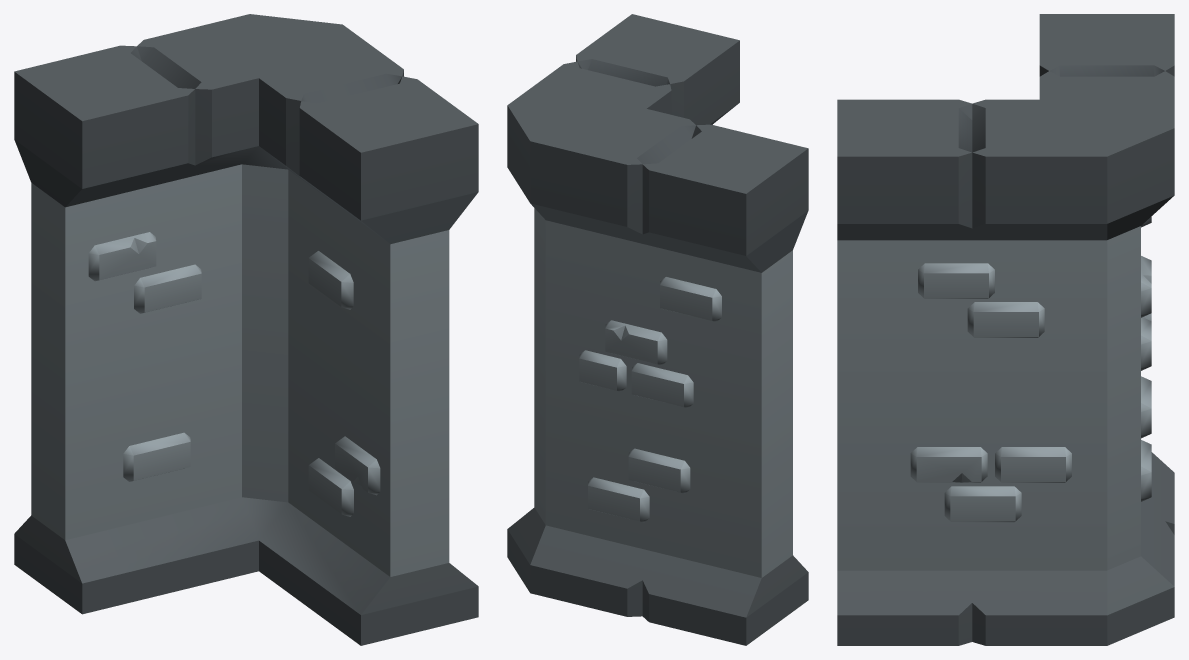
The model's file is dungeon-wall-corner.glb.
The picture shows the model from 3 angles, left to right: view 1: azimuth 30°, elevation 25°; view 2: azimuth 150°, elevation 25°; view 3: azimuth 270°, elevation 25°; orthographic projection. The views are drawn at different scales.
Parts seen in each view (by area): view 1: dungeon-wall-corner; view 2: dungeon-wall-corner; view 3: dungeon-wall-corner.
Boxes of the visible parts, <box> form: dungeon-wall-corner: <box>14,14,478,645</box>; dungeon-wall-corner: <box>507,14,808,645</box>; dungeon-wall-corner: <box>837,14,1174,645</box>.
Size of the model in its own units: 1.87 by 3 by 1.87.
Materials: 1 (1 with a texture image).
